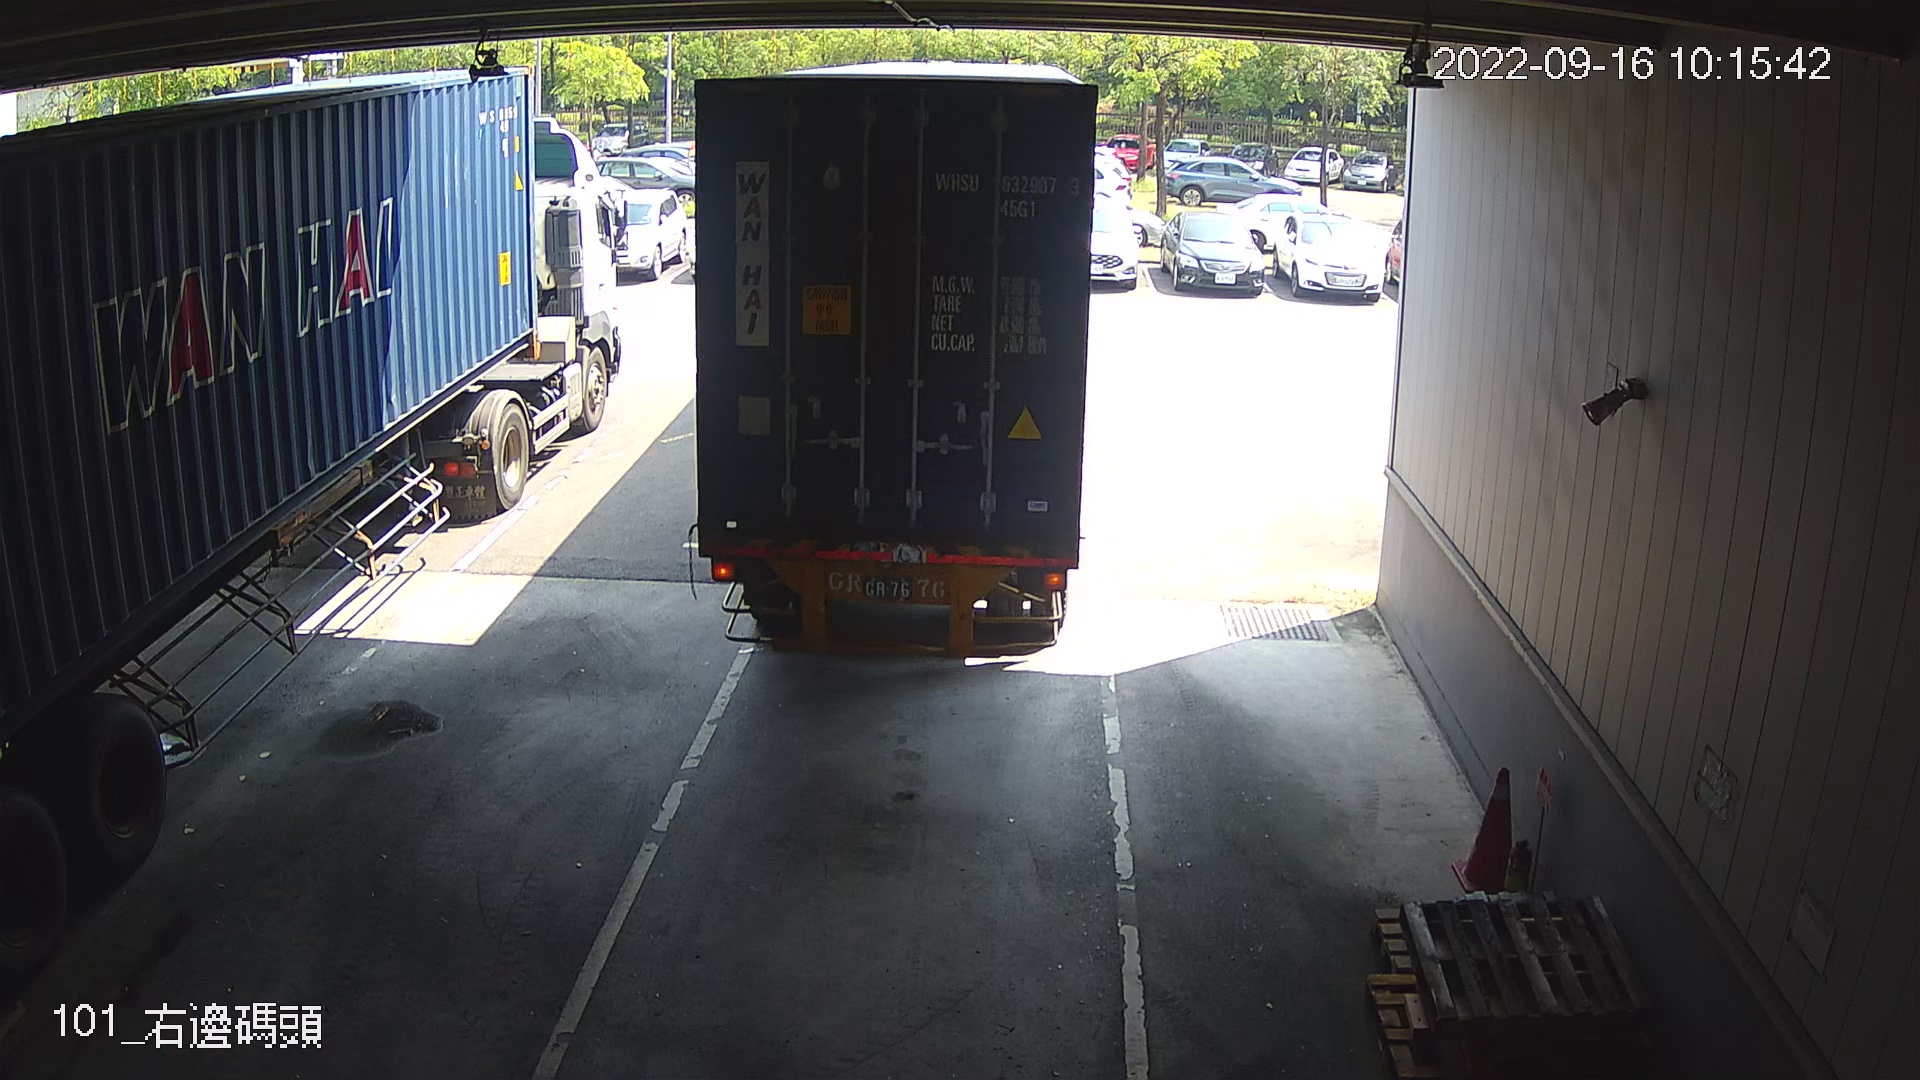container: (923, 157, 1085, 229)
